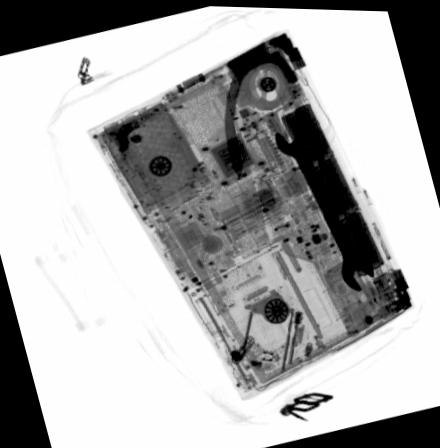Wrench: (272, 114, 375, 290)
